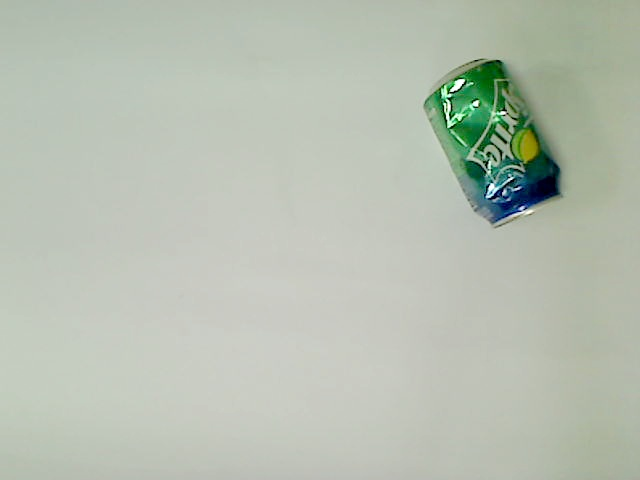can: (419, 56, 570, 232)
